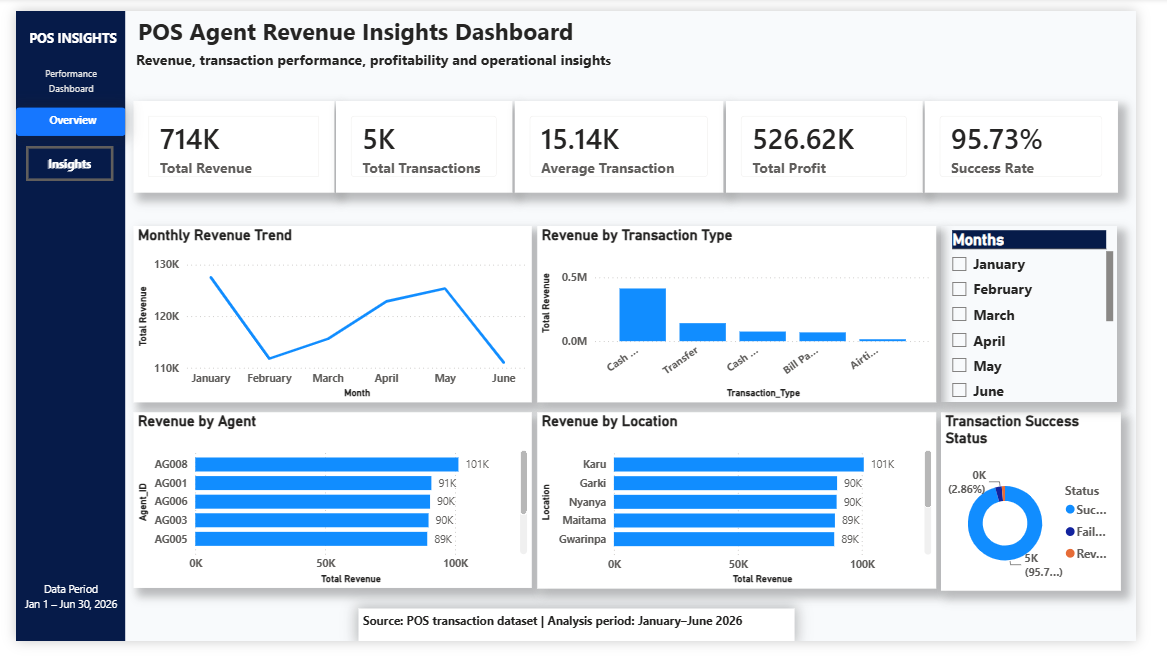

The dashboard page shown, as its layout file describes it:
{"tool":"powerbi","page":{"name":"Overview","canvas":[1280,720],"ordinal":0},"visuals":[{"type":"cardVisual","fields":{"Data":["POS_Agent_Revenue_Dashboard.Total Revenue"]},"box":[133.7,103.4,229.5,104.7],"z":0},{"type":"cardVisual","fields":{"Data":["POS_Agent_Revenue_Dashboard.Total Transactions"]},"box":[365.7,103.4,201.8,104.7],"z":1000},{"type":"cardVisual","fields":{"Data":["POS_Agent_Revenue_Dashboard.Average Transaction"]},"box":[570,103.4,238.3,104.7],"z":2000},{"type":"cardVisual","fields":{"Data":["POS_Agent_Revenue_Dashboard.Total Profit"]},"box":[812.1,103.4,224.5,104.7],"z":3000},{"type":"cardVisual","fields":{"Data":["POS_Agent_Revenue_Dashboard.Success Rate"]},"box":[1037.9,103.4,220.7,104.7],"z":4000},{"type":"lineChart","title":"Monthly Revenue Trend","fields":{"Category":["POS_Agent_Revenue_Dashboard.Month.Variation.Date Hierarchy.Month"],"Y":["POS_Agent_Revenue_Dashboard.Total Revenue"]},"box":[133.7,245.9,455,201.8],"z":5000},{"type":"clusteredColumnChart","title":"Revenue by Transaction Type","fields":{"Category":["POS_Agent_Revenue_Dashboard.Transaction_Type"],"Y":["POS_Agent_Revenue_Dashboard.Total Revenue"]},"box":[595.7,245.7,455.7,201.4],"z":6000},{"type":"clusteredBarChart","title":"Revenue by Agent","fields":{"Category":["POS_Agent_Revenue_Dashboard.Agent_ID"],"Y":["POS_Agent_Revenue_Dashboard.Total Revenue"]},"box":[133.7,459,455,201],"z":7000},{"type":"clusteredBarChart","title":"Revenue by Location","fields":{"Category":["POS_Agent_Revenue_Dashboard.Location"],"Y":["POS_Agent_Revenue_Dashboard.Total Revenue"]},"box":[595.7,458.6,455.7,201.4],"z":8000},{"type":"donutChart","title":"Transaction Success Status","fields":{"Category":["POS_Agent_Revenue_Dashboard.Status"],"Y":["POS_Agent_Revenue_Dashboard.Total Transactions"]},"box":[1057.1,458.6,205.7,204.3],"z":9000},{"type":"shape","box":[0,0,124.8,720.1],"z":10000},{"type":"shape","box":[0,110,125,33],"z":11000},{"type":"textbox","box":[134.9,0,610.4,49.2],"z":12000},{"type":"textbox","box":[137.5,44.1,581.4,37.8],"z":13000},{"type":"textbox","box":[390.9,682.2,498.1,37.8],"z":14000},{"type":"textbox","box":[0,15.3,130,48],"z":15000},{"type":"textbox","box":[2,56,123.3,48],"z":16000},{"type":"textbox","box":[8,110,109,32],"z":17000},{"type":"textbox","box":[1.4,161.4,117.1,32.9],"z":18000},{"type":"textbox","box":[0,645.7,125.7,61.4],"z":19000},{"type":"actionButton","box":[11.4,154.3,100,40],"z":20000},{"type":"slicer","fields":{"Values":["POS_Agent_Revenue_Dashboard.Month.Variation.Date Hierarchy.Month"]},"box":[1057.1,245.7,201.4,201.4],"z":22000}]}

Visuals, with their boxes on the page's 1280x720 design canvas (x1, y1, x2, y2). These are canvas units, not pixel positions in the 1167x657 screenshot, which may show the page scaled, cropped or inside an application window:
cardVisual - POS_Agent_Revenue_Dashboard.Total Revenue: [134,103,363,208]
cardVisual - POS_Agent_Revenue_Dashboard.Total Transactions: [366,103,568,208]
cardVisual - POS_Agent_Revenue_Dashboard.Average Transaction: [570,103,808,208]
cardVisual - POS_Agent_Revenue_Dashboard.Total Profit: [812,103,1037,208]
cardVisual - POS_Agent_Revenue_Dashboard.Success Rate: [1038,103,1259,208]
"Monthly Revenue Trend" lineChart: [134,246,589,448]
"Revenue by Transaction Type" clusteredColumnChart: [596,246,1051,447]
"Revenue by Agent" clusteredBarChart: [134,459,589,660]
"Revenue by Location" clusteredBarChart: [596,459,1051,660]
"Transaction Success Status" donutChart: [1057,459,1263,663]
shape: [0,0,125,720]
shape: [0,110,125,143]
textbox: [135,0,745,49]
textbox: [138,44,719,82]
textbox: [391,682,889,720]
textbox: [0,15,130,63]
textbox: [2,56,125,104]
textbox: [8,110,117,142]
textbox: [1,161,118,194]
textbox: [0,646,126,707]
actionButton: [11,154,111,194]
slicer - POS_Agent_Revenue_Dashboard.Month.Variation.Date Hierarchy.Month: [1057,246,1258,447]
